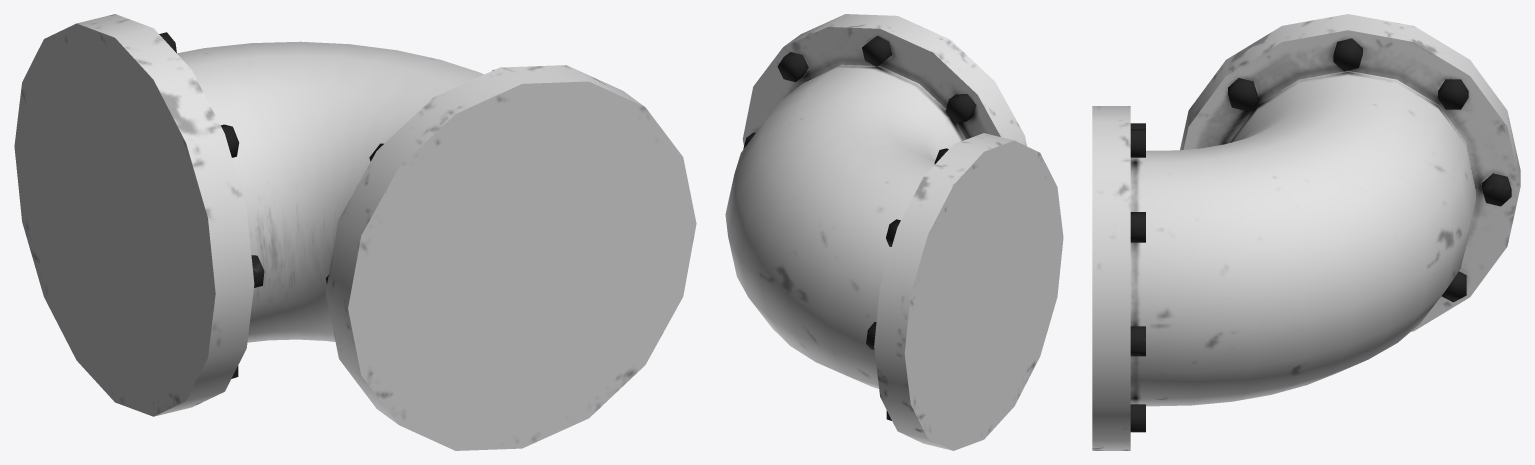
The model's file is Pipe_corner.fbx.
3 renders of one model, left to right at view 1: azimuth 30°, elevation 25°; view 2: azimuth 150°, elevation 25°; view 3: azimuth 270°, elevation 25°, orthographic. The views are drawn at different scales.
Parts seen in each view (by area): view 1: Pipe_corner; view 2: Pipe_corner; view 3: Pipe_corner.
Boxes of the visible parts, x1,y1,x2,y2 form: Pipe_corner: (14,14,696,450); Pipe_corner: (725,14,1063,450); Pipe_corner: (1092,14,1520,450).
Bounding box in the file's own units: 16.75 × 13.5 × 16.75.
